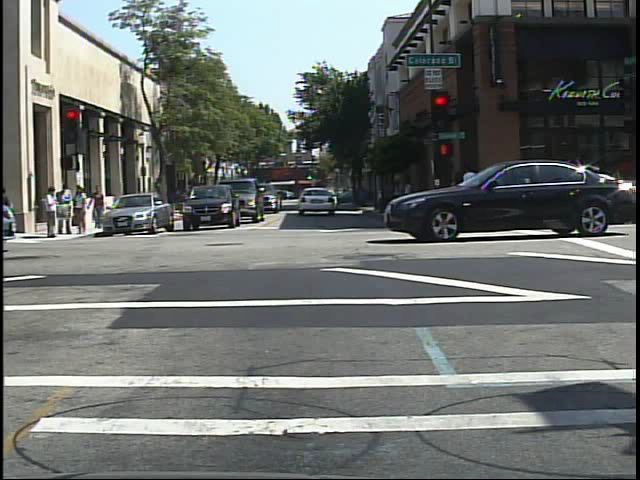person: (76, 185, 90, 229), (138, 182, 154, 215)
